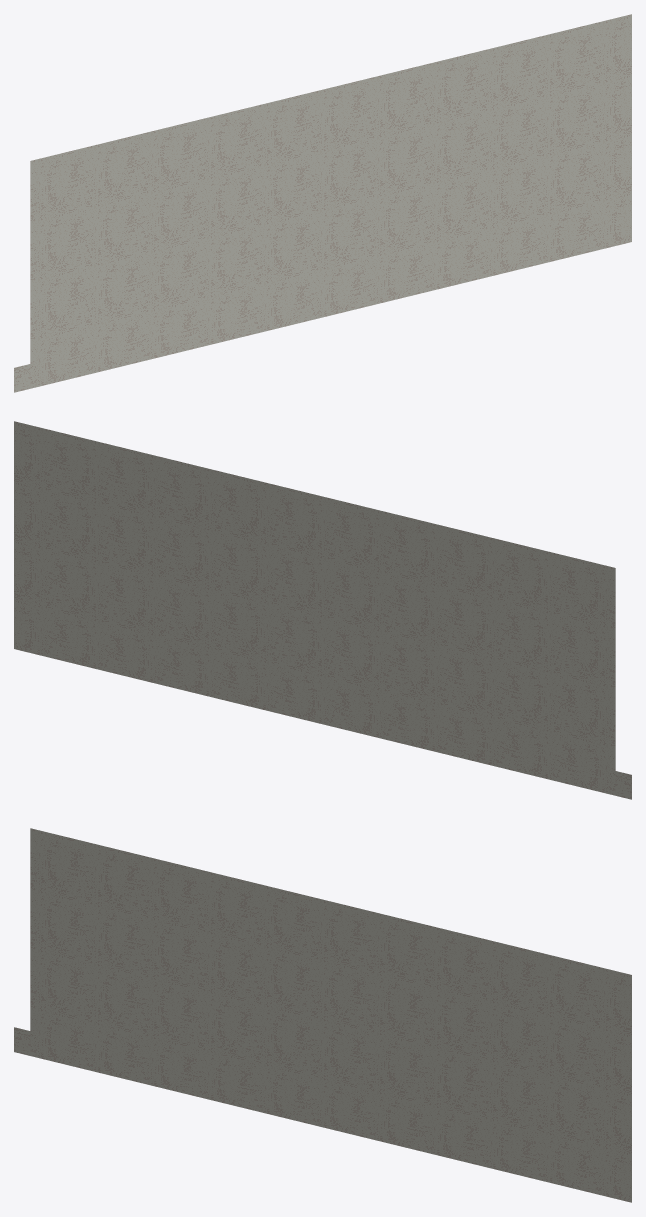
Rendered from kd_stage_135c43_4_30_bounded_piece_18.glb.
3 renders of one model, top to bottom at view 1: azimuth 30°, elevation 25°; view 2: azimuth 150°, elevation 25°; view 3: azimuth 330°, elevation 25°, orthographic.
Parts seen in each view (by area): view 1: kd_stage_135c43_4_30_bounded_piece_18; view 2: kd_stage_135c43_4_30_bounded_piece_18; view 3: kd_stage_135c43_4_30_bounded_piece_18.
Part boxes in pixels (<box>): kd_stage_135c43_4_30_bounded_piece_18: <box>14,14,631,392</box>; kd_stage_135c43_4_30_bounded_piece_18: <box>14,421,631,799</box>; kd_stage_135c43_4_30_bounded_piece_18: <box>14,828,631,1202</box>.
Bounding box in the file's own units: 3.59 × 1.26 × 0.
Materials: 1 (1 with a texture image).
